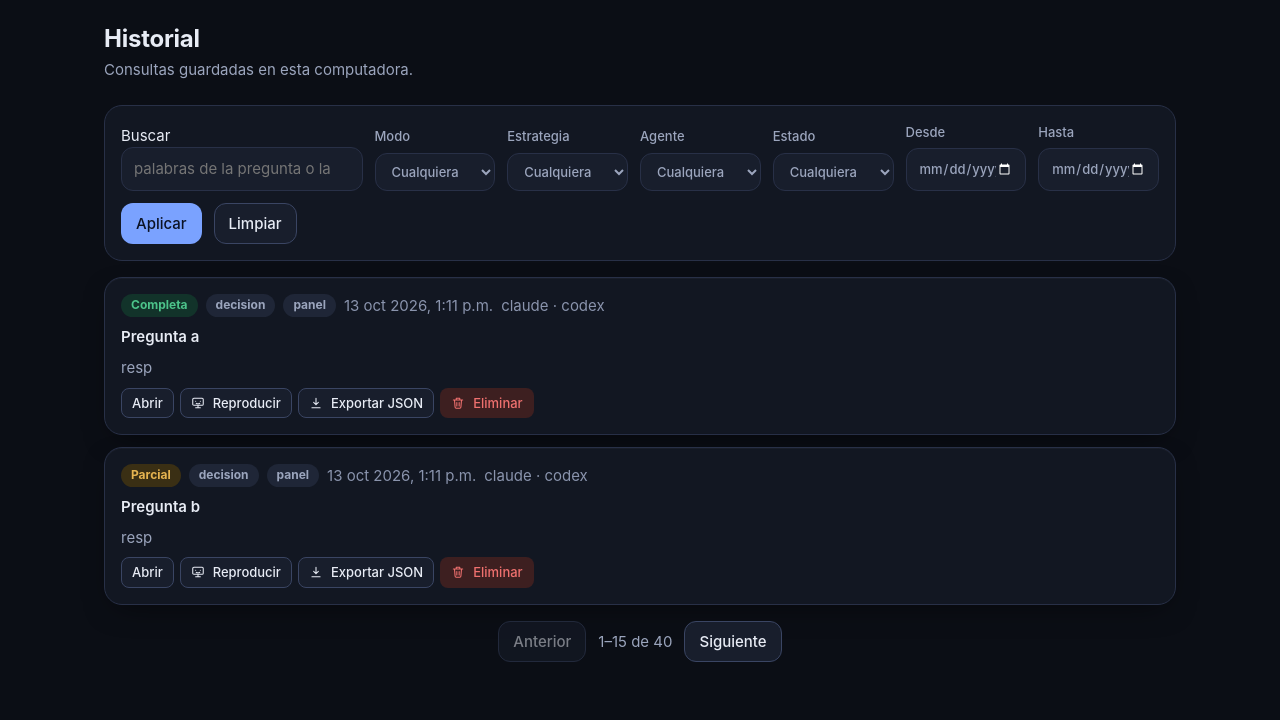
Scenario: history › lists, searches, filters and pages
Expected: the link "Pregunta a" is shown, [121,327,199,346]
In the search field labelled "Buscar": (242, 169) [121,147,362,191], type "osciloscopio"
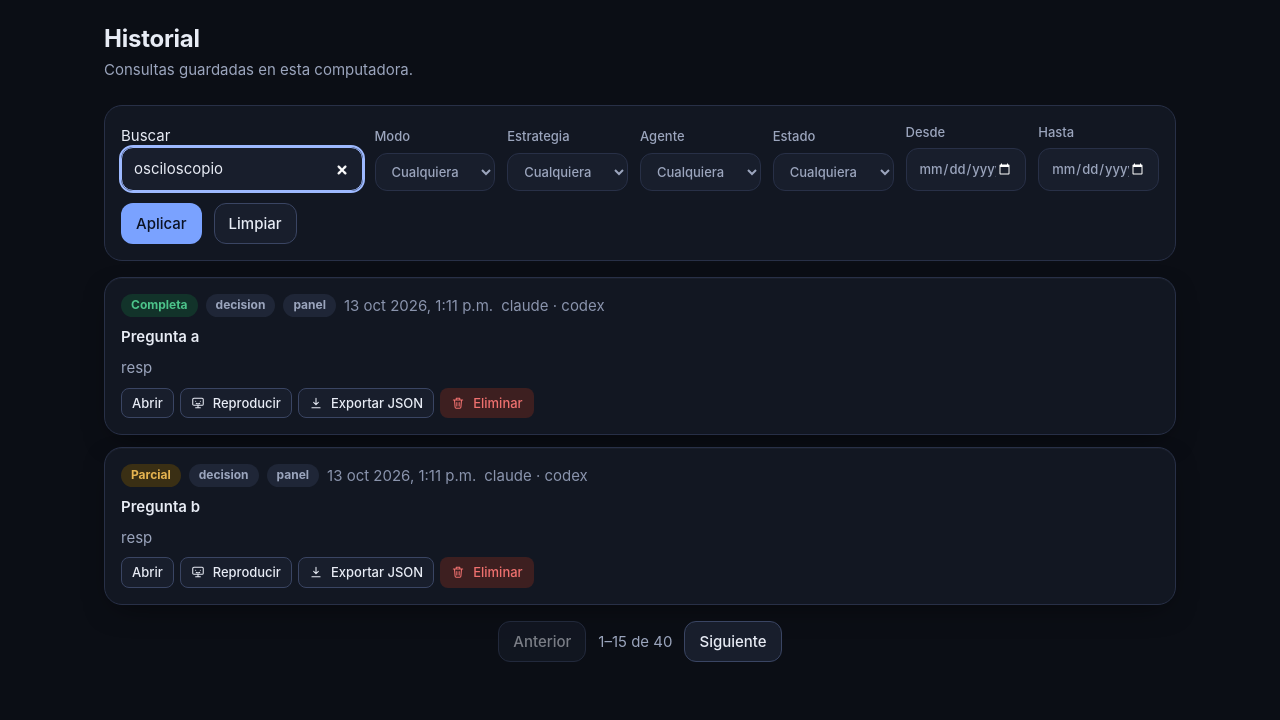
Select "Parcial" in the dropdown labelled "Estado": (833, 172) [773,152,894,190]
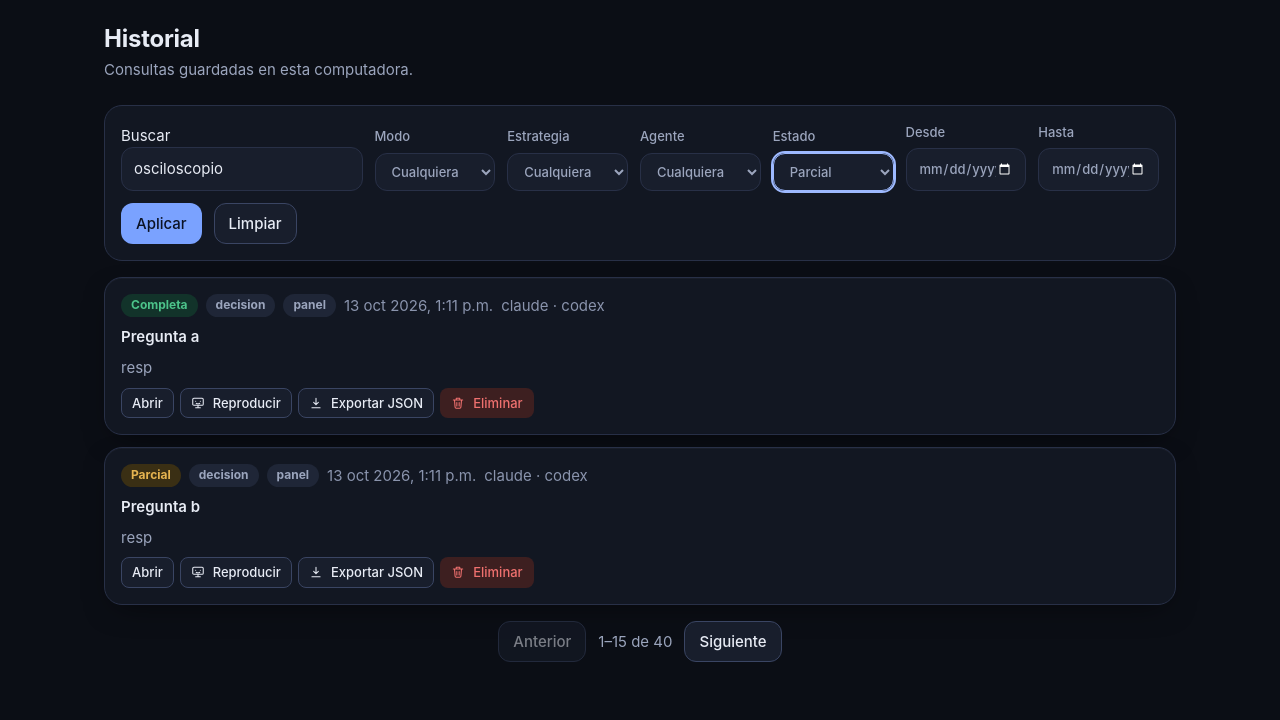
Click the button "Aplicar": (161, 223) [121,202,202,244]
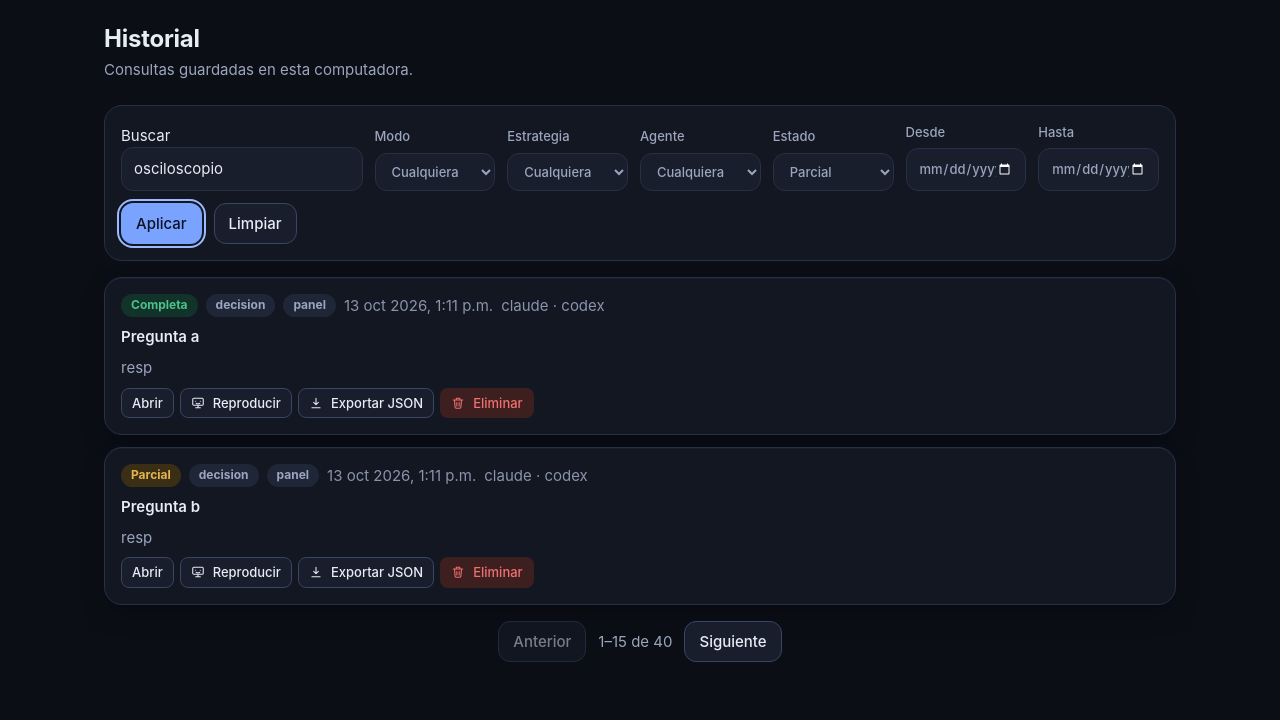
Click the button "Siguiente": (733, 641) [684,621,782,662]
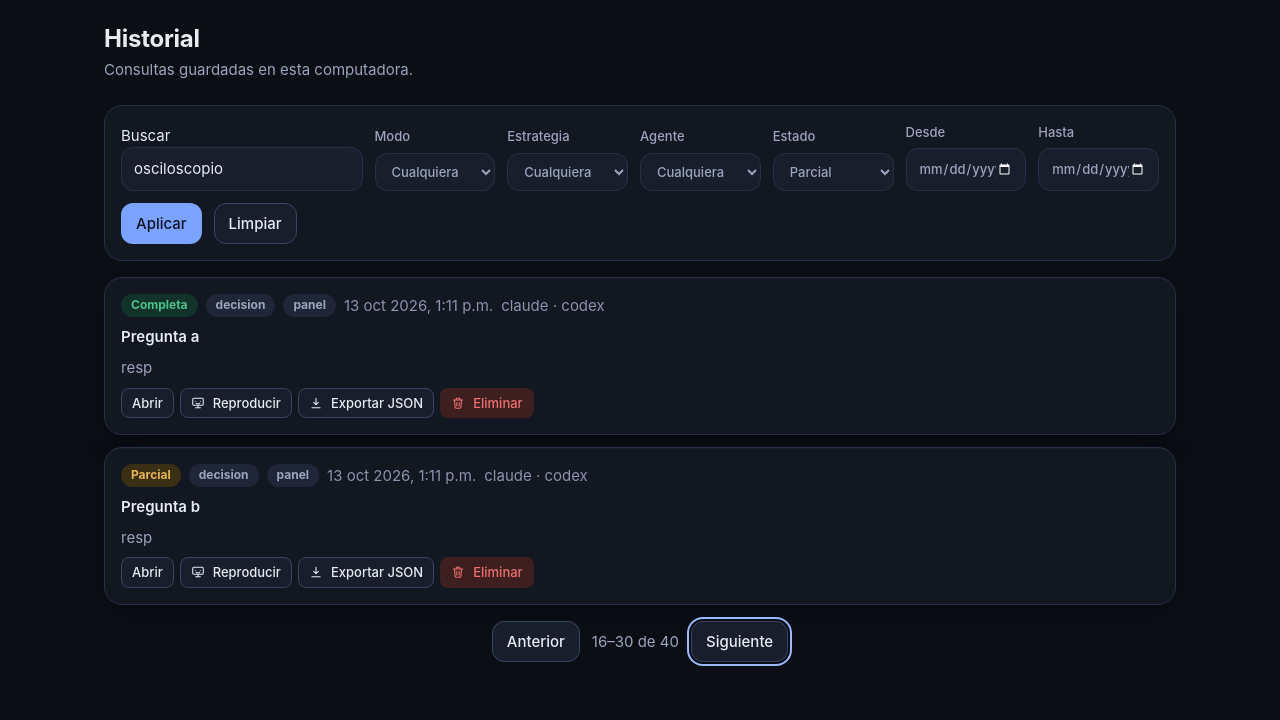
Result: the text "16–30 de 40" is shown at [592,630,679,653]
